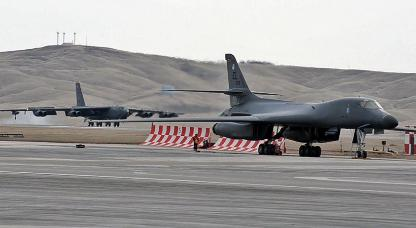AV8B: (87, 53, 415, 158)
B2: (0, 79, 184, 125)
